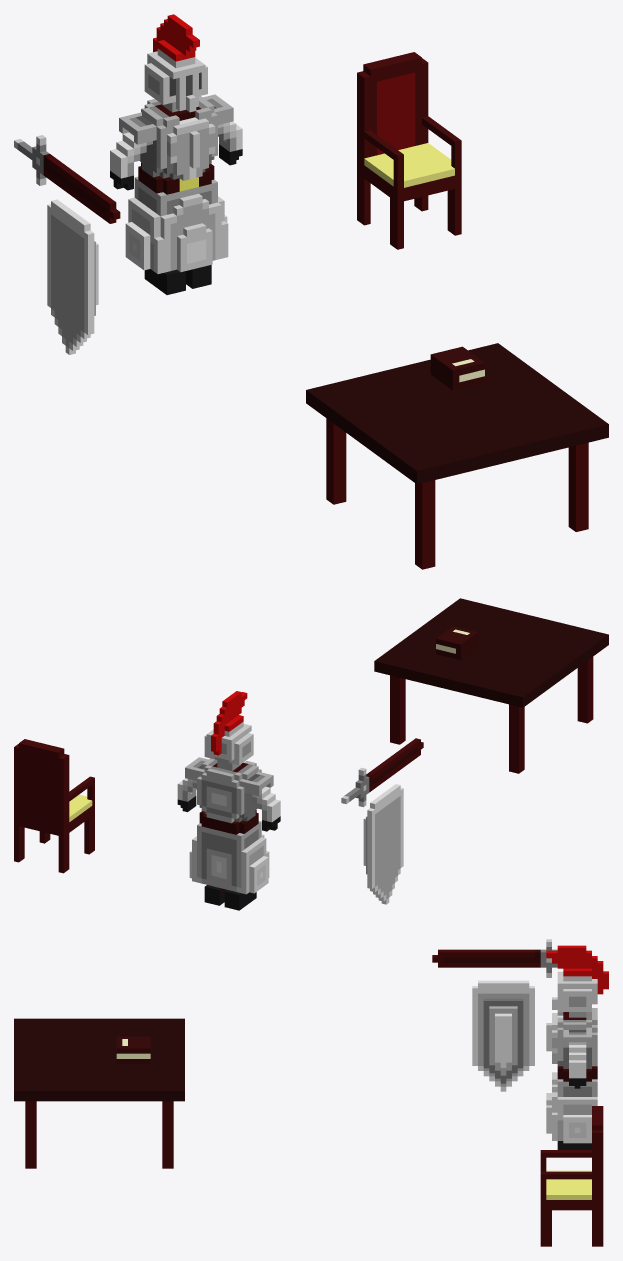
File: KNIG.fbx
3 views of the same model, one above another, from view 1: azimuth 30°, elevation 25°; view 2: azimuth 150°, elevation 25°; view 3: azimuth 270°, elevation 25° (orthographic). The views are drawn at different scales.
Visible parts, largest first — view 1: tableWithBook, KNIG_1, ch, KNIG; view 2: tableWithBook, KNIG_1, ch, KNIG; view 3: tableWithBook, KNIG_1, KNIG, ch.
Boxes of the visible parts, left/top/right/bottom form: tableWithBook: left=306, top=343, right=608, bottom=569; KNIG_1: left=110, top=14, right=242, bottom=294; ch: left=357, top=52, right=461, bottom=249; KNIG: left=14, top=135, right=120, bottom=354; tableWithBook: left=374, top=598, right=608, bottom=773; KNIG_1: left=177, top=691, right=280, bottom=910; ch: left=14, top=739, right=94, bottom=873; KNIG: left=341, top=738, right=423, bottom=904; tableWithBook: left=14, top=1018, right=184, bottom=1168; KNIG_1: left=546, top=945, right=608, bottom=1149; KNIG: left=432, top=939, right=557, bottom=1091; ch: left=540, top=1106, right=603, bottom=1246.
Bounding box in the file's own units: 65.29 × 39 × 104.
Materials: 3 (3 with a texture image).
